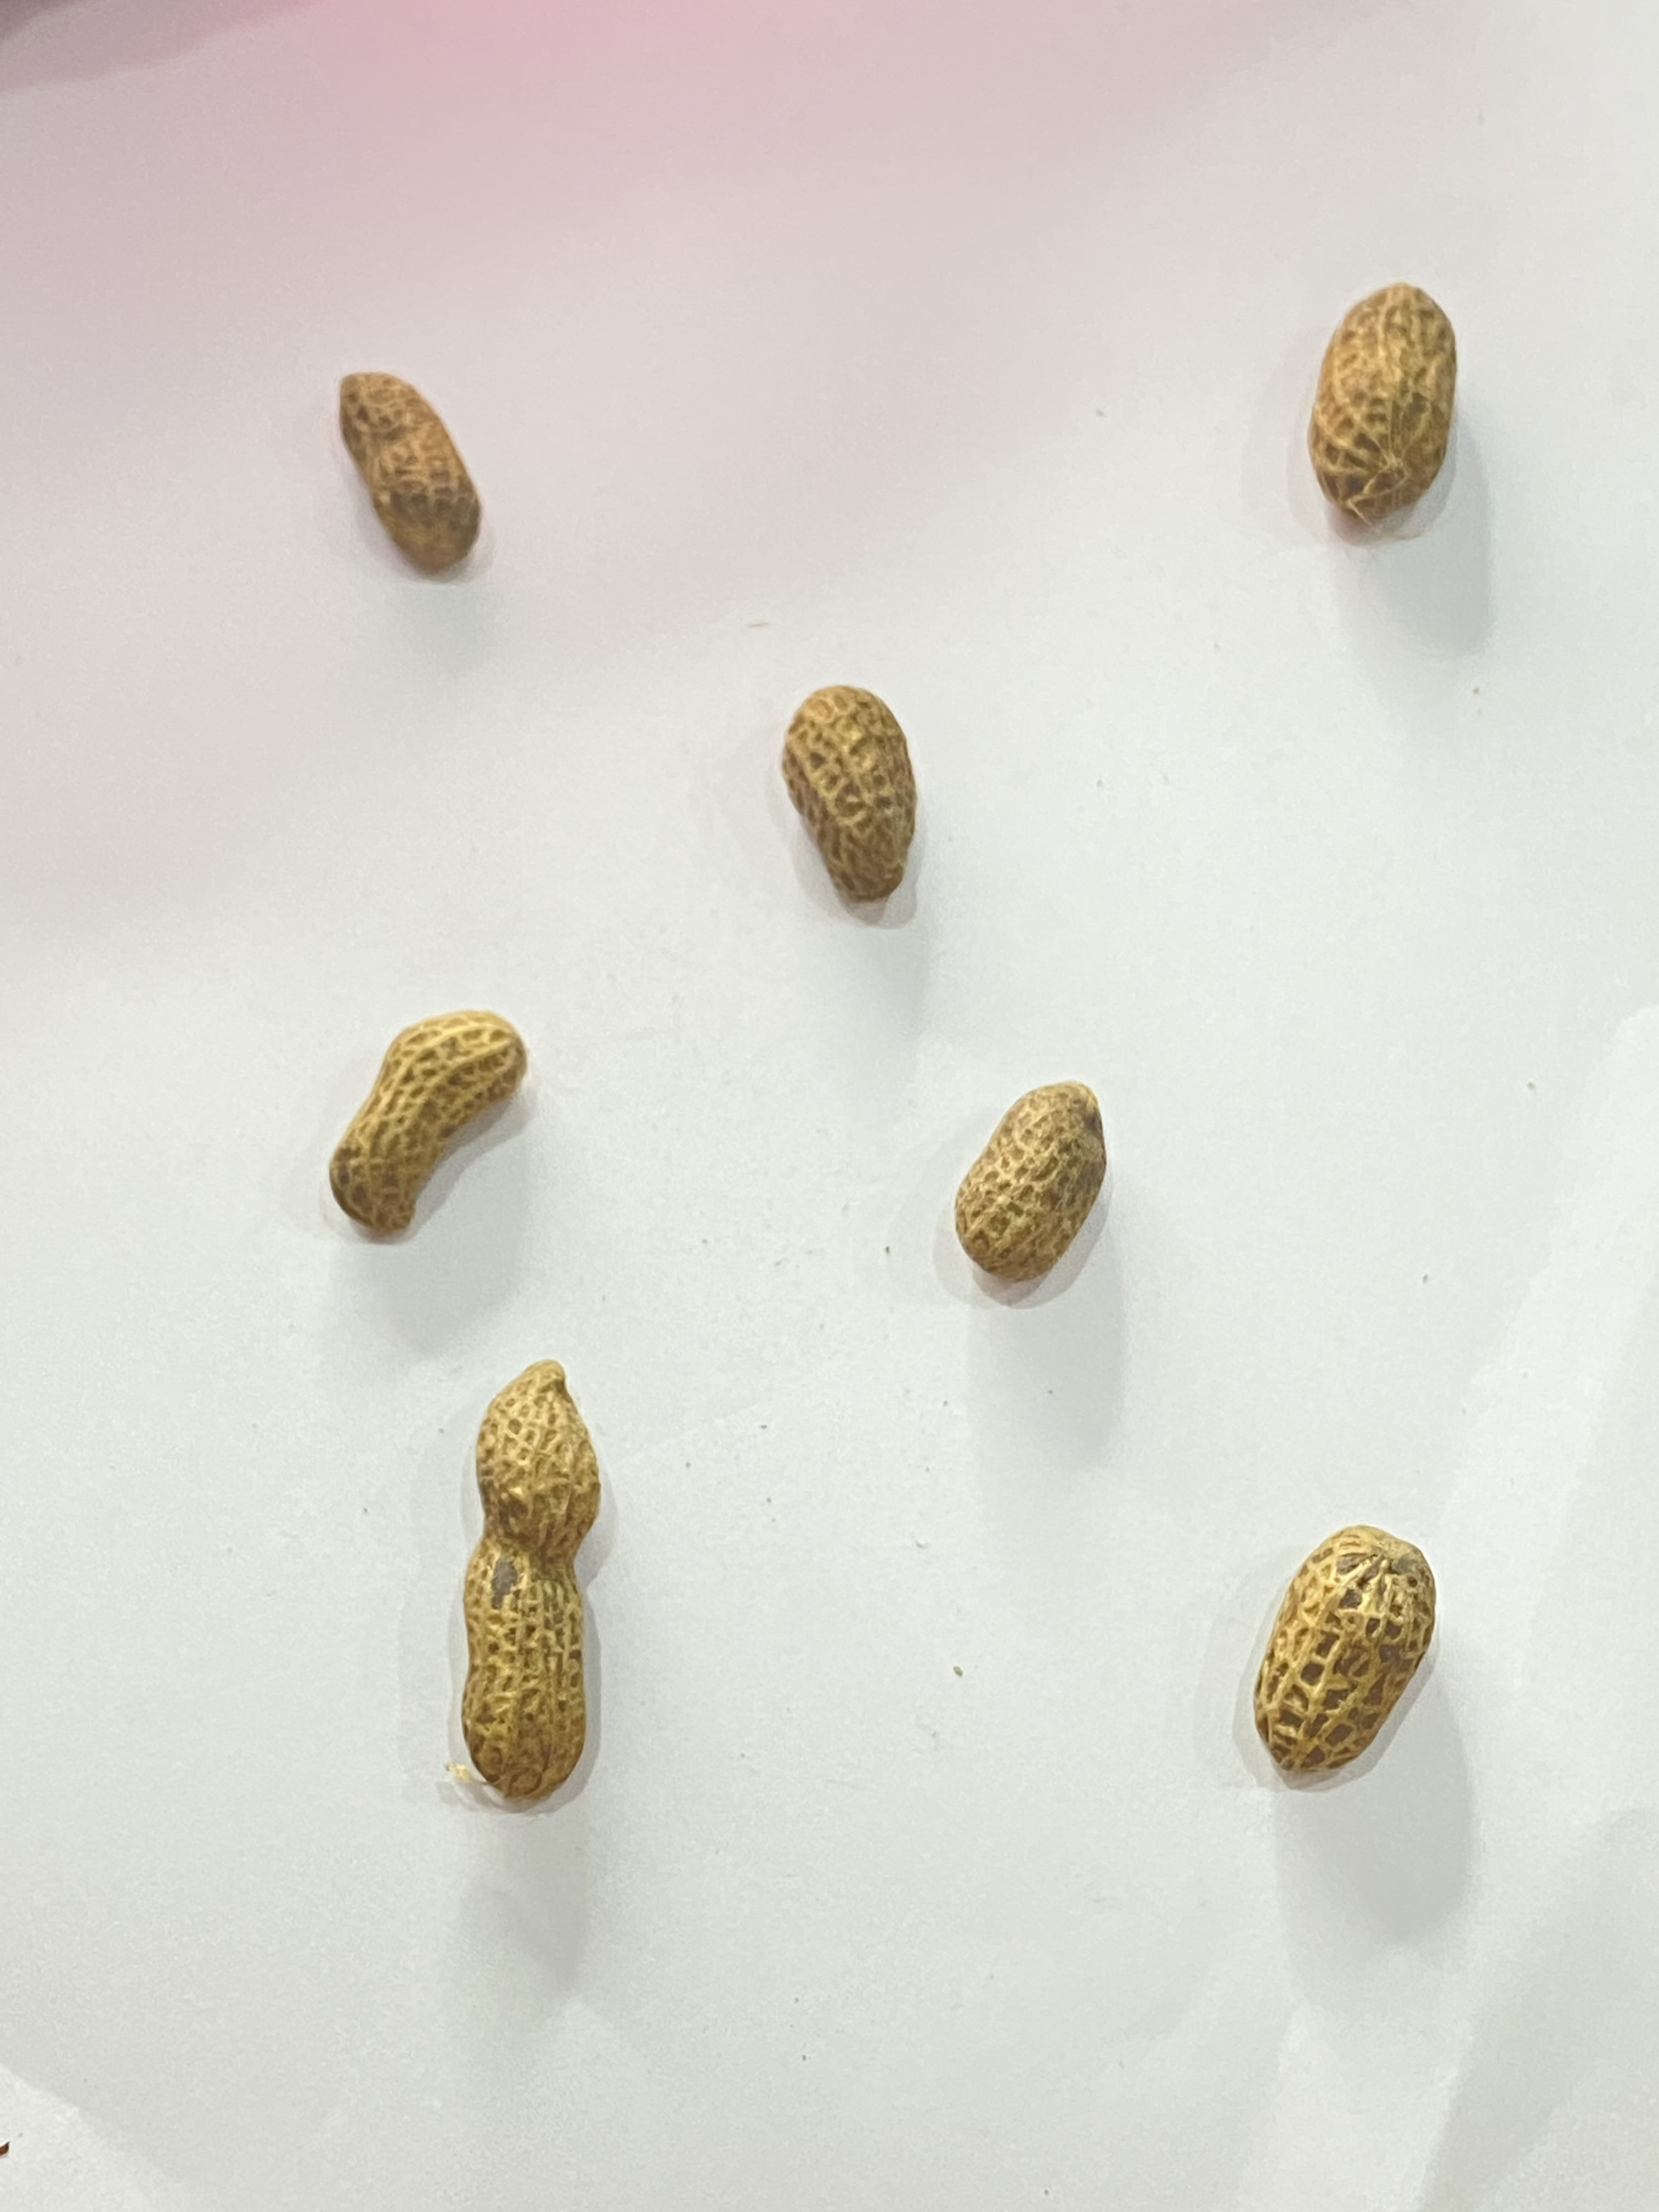kacang1: (1194, 1494, 1509, 1801), (938, 1082, 1131, 1292)
kacang2: (305, 1000, 592, 1238), (289, 319, 532, 597), (760, 648, 941, 928), (1304, 260, 1490, 524)
kacang3: (403, 1291, 657, 1839)
